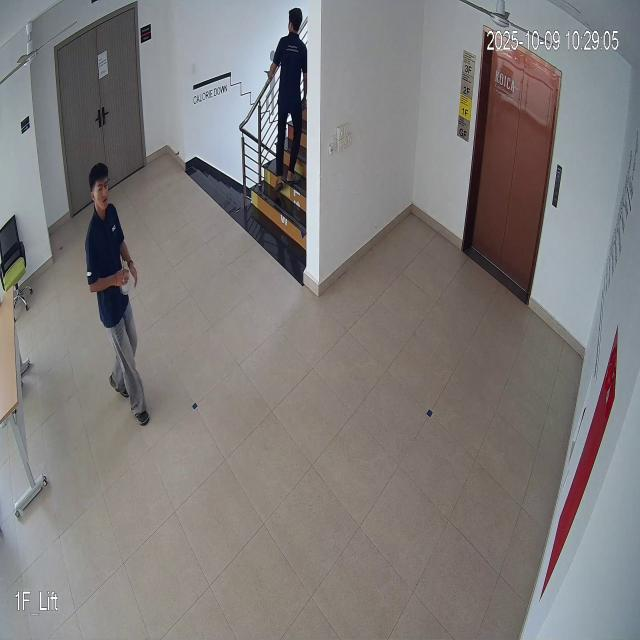face: (89, 161, 111, 218)
